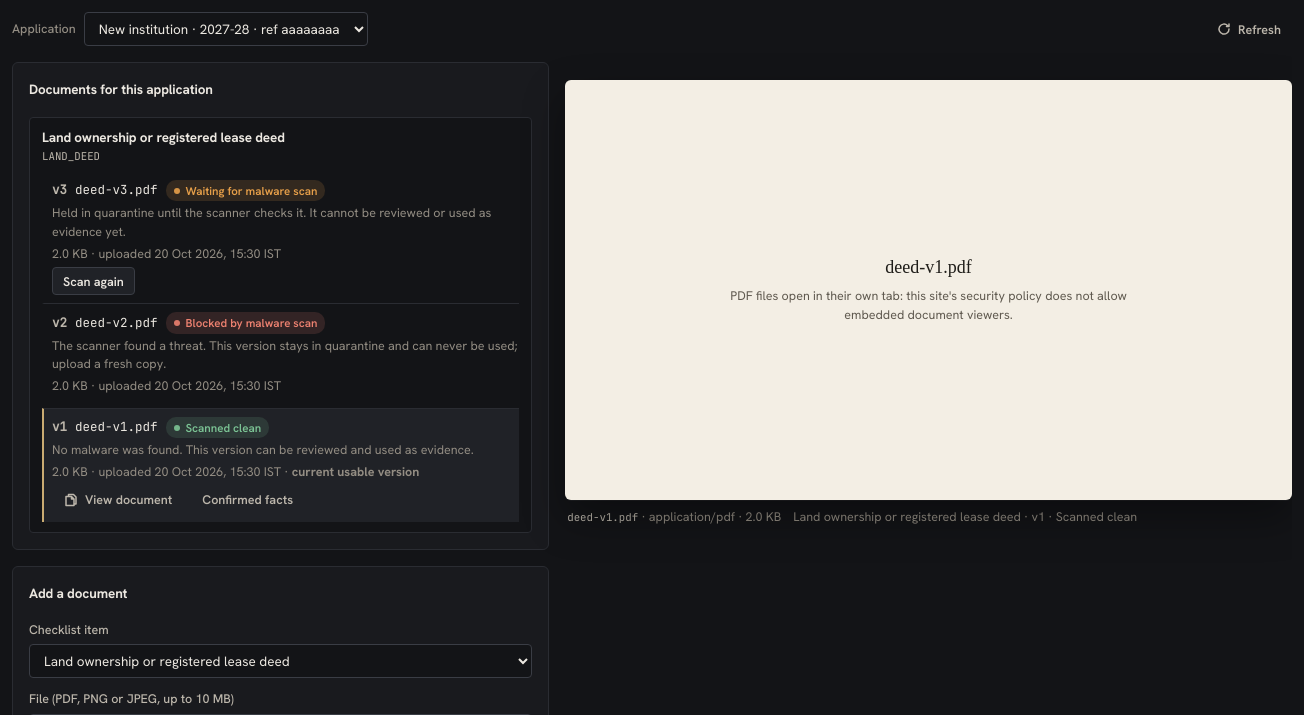
Scenario: documents: role-based screens › shows an institution only confirmed facts and the review counts
What coordinates should you click on to do the following:
click the button "Confirmed facts"
I would click on:
 (248, 500)
Its box is x1=191 y1=486 x2=304 y2=514.
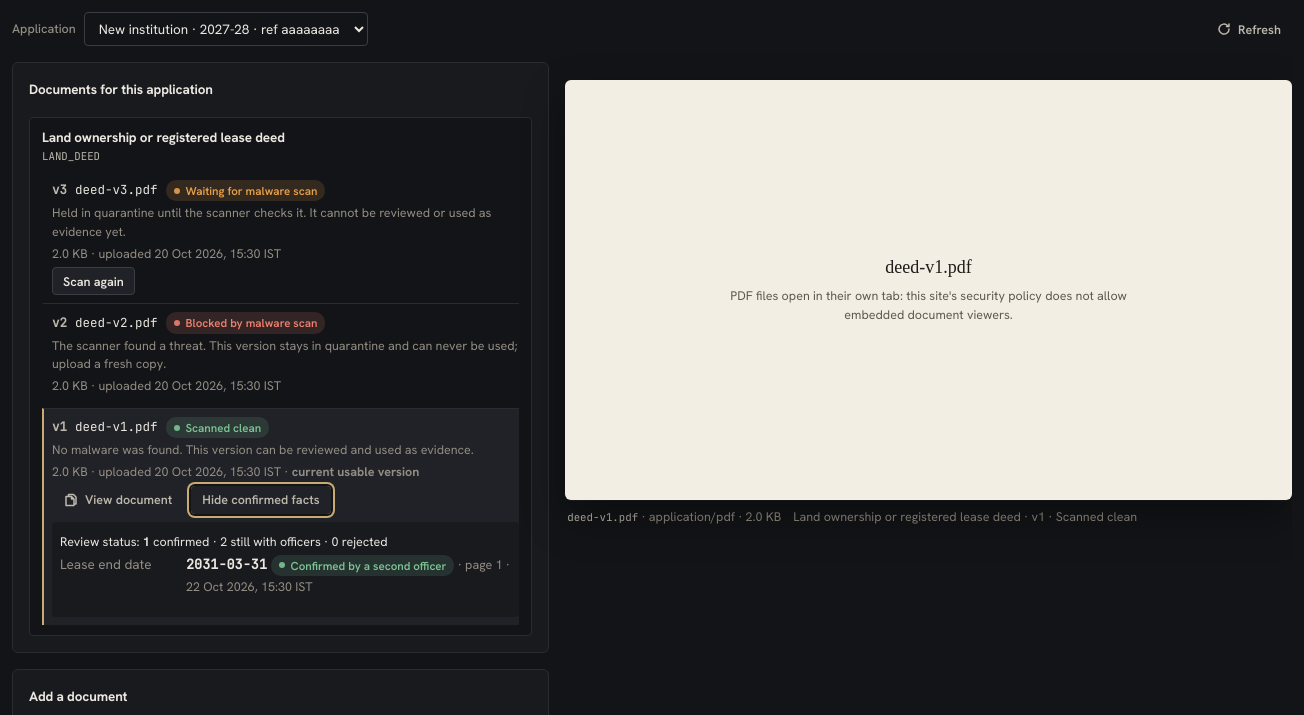
Expected: the text "2031-03-31" is shown, x1=186 y1=556 x2=267 y2=574
Expected: the text "still with officers" shows "1 confirmed · 2 still with officers · 0 rejected", x1=60 y1=533 x2=388 y2=550
